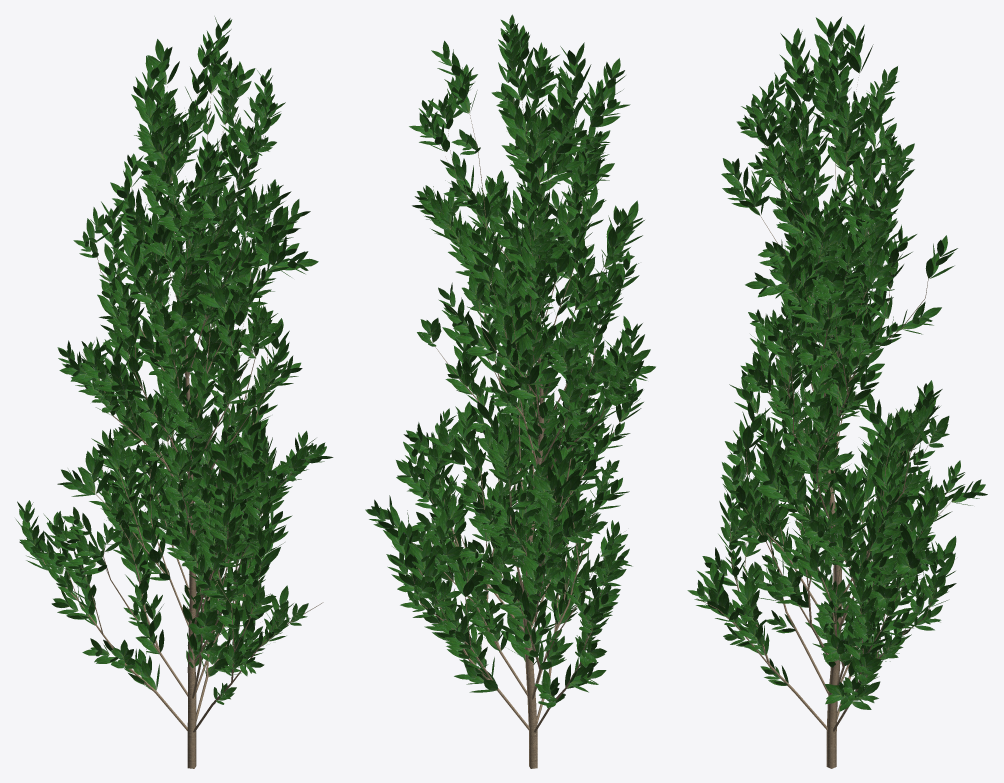
Rendered from mochinoki_nocolor.fbx.
The picture shows the model from 3 angles, left to right: view 1: azimuth 30°, elevation 25°; view 2: azimuth 150°, elevation 25°; view 3: azimuth 270°, elevation 25°; orthographic projection.
Visible parts, largest first — view 1: Tree, 051.070, 051.127, 051.598, 051.253, 051.406, 051.107, 051.016, 051.375, 051.219, 051.348, 051.346 (+1 smaller); view 2: Tree, 051.085, 051.033, 051.583, 051.517, 051.284, 051.547, 051.323, 051.598, 051.126, 051.070, 051.147 (+19 smaller); view 3: Tree, 051.491, 051.155, 051.284, 051.323, 051.313, 051.259, 051.253, 051.598, 051.195, 051.414, 051.390 (+10 smaller).
Part boxes in pixels (bbox=[...]): Tree: bbox=[42, 78, 323, 768]; 051.070: bbox=[77, 451, 110, 494]; 051.127: bbox=[194, 263, 225, 307]; 051.598: bbox=[135, 55, 167, 101]; 051.253: bbox=[210, 441, 241, 484]; 051.406: bbox=[111, 233, 147, 279]; 051.107: bbox=[168, 299, 199, 330]; 051.016: bbox=[253, 224, 279, 265]; 051.375: bbox=[137, 520, 165, 563]; 051.219: bbox=[188, 610, 219, 640]; 051.348: bbox=[84, 358, 123, 391]; 051.346: bbox=[135, 620, 164, 654]; Tree: bbox=[411, 74, 628, 768]; 051.085: bbox=[455, 323, 496, 356]; 051.033: bbox=[407, 538, 436, 581]; 051.583: bbox=[426, 423, 465, 464]; 051.517: bbox=[383, 520, 415, 569]; 051.284: bbox=[526, 42, 559, 91]; 051.547: bbox=[547, 444, 577, 491]; 051.323: bbox=[436, 494, 469, 540]; 051.598: bbox=[557, 42, 591, 91]; 051.126: bbox=[569, 452, 609, 491]; 051.070: bbox=[561, 487, 597, 535]; 051.147: bbox=[558, 216, 585, 260]; Tree: bbox=[696, 71, 950, 768]; 051.491: bbox=[750, 460, 788, 499]; 051.155: bbox=[834, 469, 865, 518]; 051.284: bbox=[839, 24, 873, 73]; 051.323: bbox=[899, 499, 927, 548]; 051.313: bbox=[756, 427, 786, 471]; 051.259: bbox=[864, 248, 897, 288]; 051.253: bbox=[739, 399, 771, 449]; 051.598: bbox=[814, 16, 843, 59]; 051.195: bbox=[894, 550, 928, 584]; 051.414: bbox=[925, 235, 957, 278]; 051.390: bbox=[792, 298, 830, 332].
Size of the model in its own units: 95.22 by 254 by 95.
Materials: 2 (2 with a texture image).
